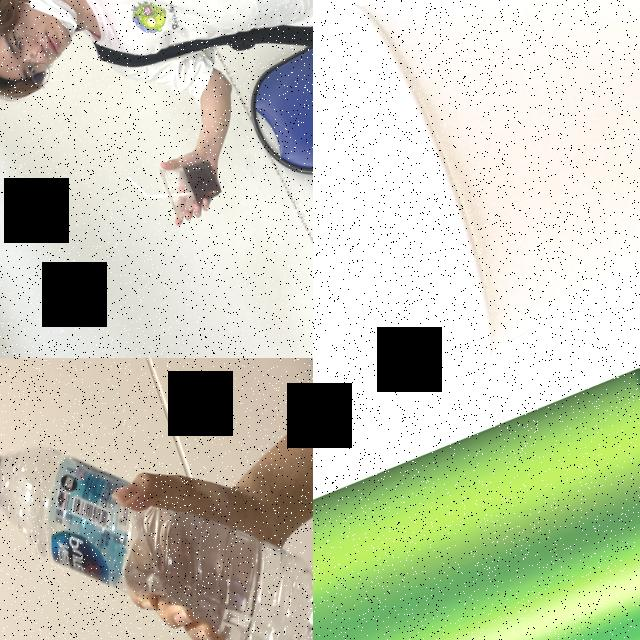bottle: (0, 358, 313, 640)
can: (313, 358, 640, 640)
cup: (313, 0, 640, 358), (156, 148, 227, 220)
